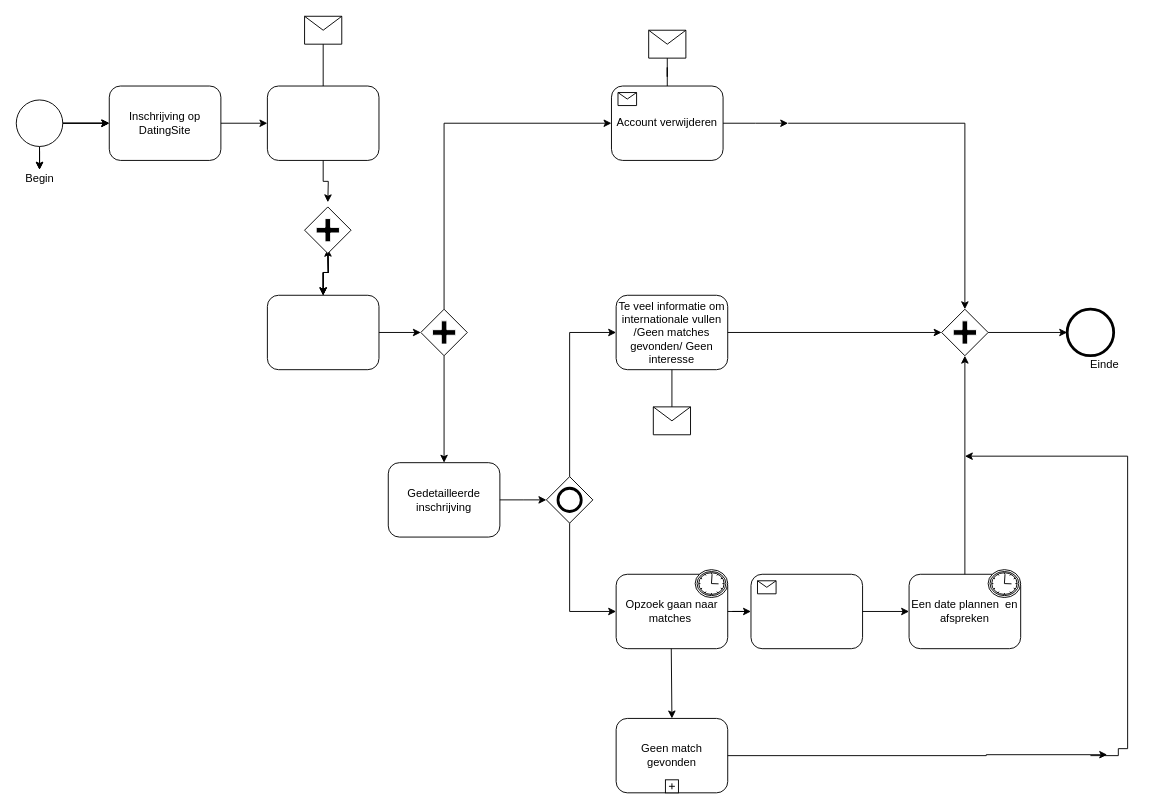
Image size: 1151x809. Some labels were removed from this diagram. Here are the shapes that lost their labels. From the top down, the centre of each, then its label:
(x=322, y=122): Bevestigingsmail en activering
(x=322, y=332): Inloggen
(x=806, y=611): Match gevonden en beginnen te praten
